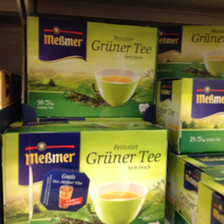tea: (1, 121, 167, 224), (25, 15, 159, 120)
